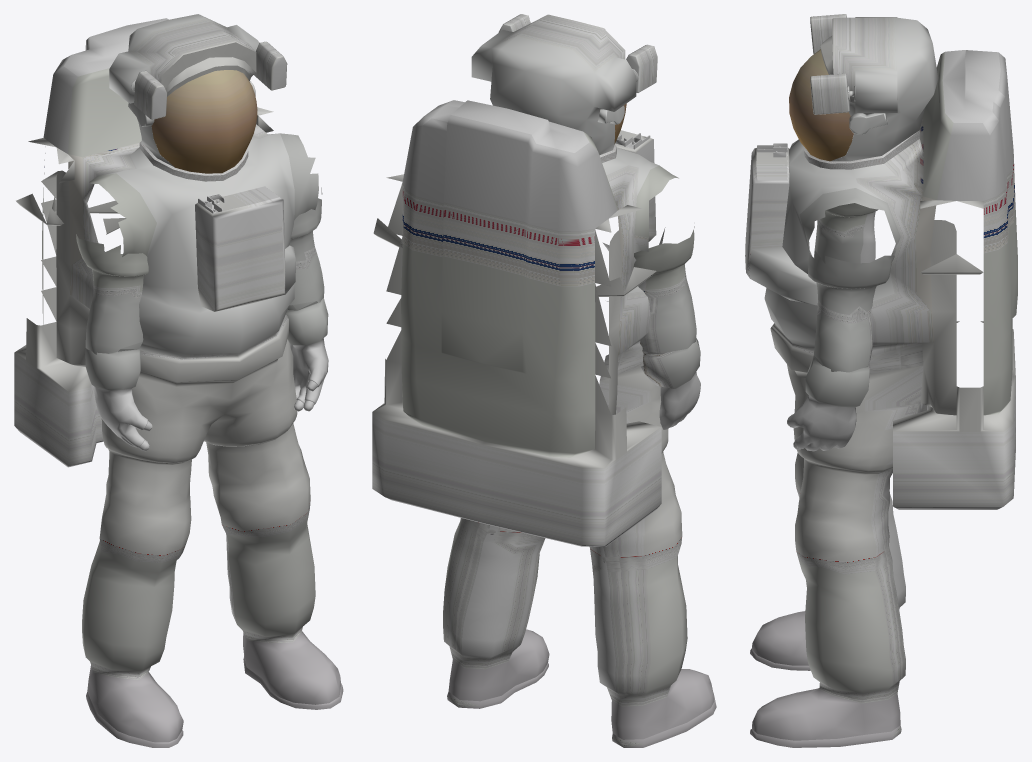
File: team-astronaut-walk.glb
The picture shows the model from 3 angles, left to right: view 1: azimuth 30°, elevation 25°; view 2: azimuth 150°, elevation 25°; view 3: azimuth 270°, elevation 25°; orthographic projection. The views are drawn at different scales.
Visible parts, largest first — view 1: Walk_body_0, Walk_legR_4, Walk_legL_3, Walk_armR_2, Walk_armL_1; view 2: Walk_body_0, Walk_legR_4, Walk_legL_3, Walk_armR_2; view 3: Walk_body_0, Walk_legL_3, Walk_armL_1, Walk_legR_4, Walk_armR_2.
Boxes of the visible parts, x1,y1,x2,y2 form: Walk_body_0: [26, 14, 318, 414]; Walk_legR_4: [14, 345, 230, 747]; Walk_legL_3: [204, 343, 343, 709]; Walk_armR_2: [16, 193, 152, 451]; Walk_armL_1: [103, 187, 328, 411]; Walk_body_0: [384, 14, 678, 459]; Walk_legR_4: [482, 387, 716, 747]; Walk_legL_3: [372, 402, 549, 708]; Walk_armR_2: [595, 226, 700, 429]; Walk_body_0: [745, 14, 1017, 431]; Walk_legL_3: [750, 375, 1015, 747]; Walk_armL_1: [787, 250, 983, 451]; Walk_legR_4: [750, 321, 1015, 670]; Walk_armR_2: [813, 203, 878, 263].
Bounding box in the file's own units: 0.7102 × 1.85 × 0.6876.
2 materials, 2 textured.
